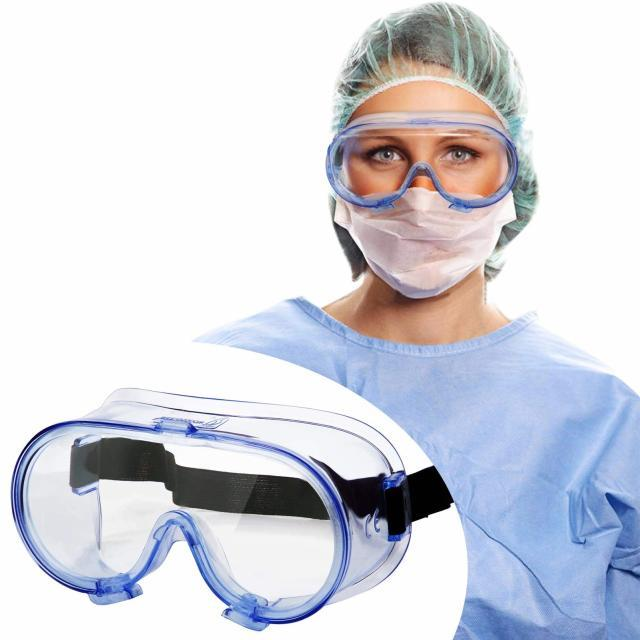Goggles: (7, 383, 455, 635), (315, 109, 530, 210)
